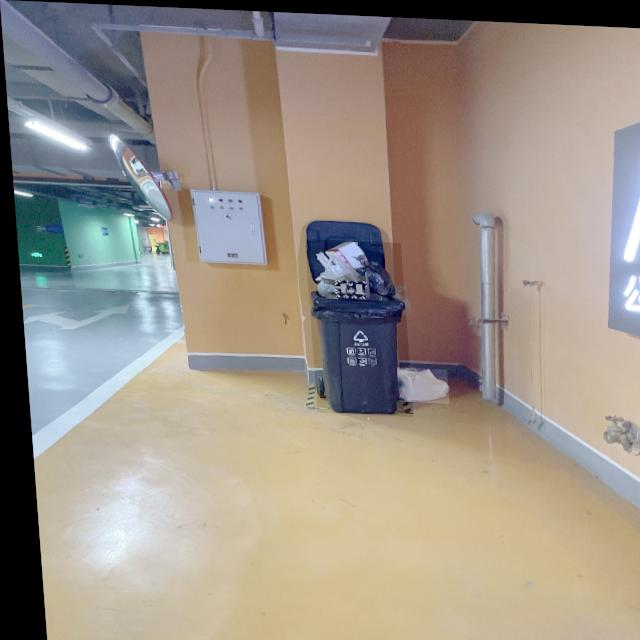garbage: (391, 364, 443, 400)
overflow: (301, 236, 407, 413)
